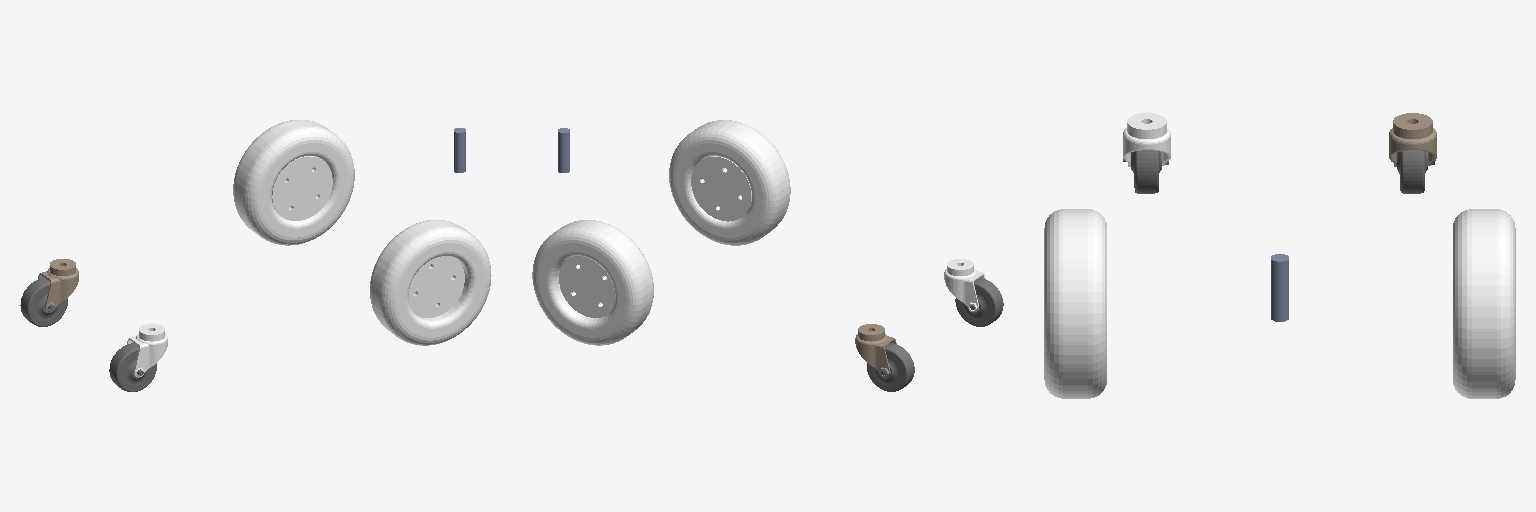
robot.urdf — myslam21:
<?xml version="1.0" encoding="utf-8"?>
<!-- This URDF was automatically created by SolidWorks to URDF Exporter! Originally created by Stephen Brawner (brawner@gmail.com)
     Commit Version: 1.6.0-4-g7f85cfe  Build Version: 1.6.7995.38578
     For more information, please see http://wiki.ros.org/sw_urdf_exporter -->
<robot
  name="myslam21">
  <link
    name="base_footprint">
  </link>
  <link
    name="base_link">
    <inertial>
      <origin
        xyz="-0.074105 -4.3631E-08 0.0097349"
        rpy="0 0 0" />
      <mass
        value="1.4621" />
    <inertia
        ixx="0.0049825"
        ixy="2.9389E-17"
        ixz="-1.1192E-17"
        iyy="0.0089868"
        iyz="4.4695E-17"
        izz="0.0049825" />
    </inertial>

    <visual>
      <origin
        xyz="0 0 0"
        rpy="0 0 0" />
      <geometry>
        <mesh
          filename="package://myslam21/meshes/base_link.STL" />
      </geometry>
      <material
        name="">
        <color
          rgba="0.98824 0.73725 0.51765 1" />
      </material>
    </visual>
    <collision>
      <origin
        xyz="0 0 0"
        rpy="0 0 0" />
      <geometry>
        <mesh
          filename="package://myslam21/meshes/base_link.STL" />
      </geometry>
    </collision>
  </link>
  <joint
    name="base_joint"
    type="fixed">
    <origin
      xyz="0 0 0.1"
      rpy="0 0 0" />
    <parent
      link="base_footprint" />
    <child
      link="base_link" />
    <axis
      xyz="0 0 0" />
  </joint>
  <link
    name="left_wheel">
    <inertial>
      <origin
        xyz="-2.9346E-10 -0.0015289 7.2164E-16"
        rpy="0 0 0" />
      <mass
        value="1.6988" />
      <inertia
        ixx="0.0049825"
        ixy="2.9389E-17"
        ixz="-1.1192E-17"
        iyy="0.0089868"
        iyz="4.4695E-17"
        izz="0.0049825" />
    </inertial>
    <visual>
      <origin
        xyz="0 0 0"
        rpy="0 0 0" />
      <geometry>
        <mesh
          filename="package://myslam21/meshes/left_wheel.STL" />
      </geometry>
      <material
        name="">
        <color
          rgba="1 1 1 1" />
      </material>
    </visual>
    <collision>
      <origin
        xyz="0 0 0"
        rpy="0 0 0" />
      <geometry>
        <mesh
          filename="package://myslam21/meshes/left_wheel.STL" />
      </geometry>
    </collision>
  </link>
  <joint
    name="left_joint"
    type="continuous">
    <origin
      xyz="8.7574E-05 0.215 0"
      rpy="0 0 0" />
    <parent
      link="base_link" />
    <child
      link="left_wheel" />
    <axis
      xyz="0 1 0" />
  </joint>
  <link
    name="right_wheel">
    <inertial>
      <origin
        xyz="2.9346E-10 0.001529 1.0547E-15"
        rpy="0 0 0" />
      <mass
        value="1.6988" />
      <inertia
        ixx="0.0049825"
        ixy="4.1381E-17"
        ixz="-2.1476E-18"
        iyy="0.0089868"
        iyz="-2.0305E-17"
        izz="0.0049825" />
    </inertial>
    <visual>
      <origin
        xyz="0 0 0"
        rpy="0 0 0" />
      <geometry>
        <mesh
          filename="package://myslam21/meshes/right_wheel.STL" />
      </geometry>
      <material
        name="">
        <color
          rgba="1 1 1 1" />
      </material>
    </visual>
    <collision>
      <origin
        xyz="0 0 0"
        rpy="0 0 0" />
      <geometry>
        <mesh
          filename="package://myslam21/meshes/right_wheel.STL" />
      </geometry>
    </collision>
  </link>
  <joint
    name="right_joint"
    type="continuous">
    <origin
      xyz="-8.7574E-05 -0.215 0"
      rpy="0 0 0" />
    <parent
      link="base_link" />
    <child
      link="right_wheel" />
    <axis
      xyz="0 1 0" />
  </joint>
  <link
    name="caster_right_sup_link">
    <inertial>
      <origin
        xyz="-0.0057083 0.00018449 -0.017621"
        rpy="0 0 0" />
      <mass
        value="0.030986" />
      <inertia
        ixx="1.4804E-05"
        ixy="2.2843E-07"
        ixz="-4.3412E-06"
        iyy="1.5651E-05"
        iyz="2.7586E-07"
        izz="1.4627E-05" />
    </inertial>
    <visual>
      <origin
        xyz="0 0 0"
        rpy="0 0 0" />
      <geometry>
        <mesh
          filename="package://myslam21/meshes/caster_right_sup_link.STL" />
      </geometry>
      <material
        name="">
        <color
          rgba="1 1 1 1" />
      </material>
    </visual>
    <collision>
      <origin
        xyz="0 0 0"
        rpy="0 0 0" />
      <geometry>
        <mesh
          filename="package://myslam21/meshes/caster_right_sup_link.STL" />
      </geometry>
    </collision>
  </link>
  <joint
    name="caster_right_sup_joint"
    type="continuous">
    <origin
      xyz="-0.46269 -0.14 -0.0036566"
      rpy="0 0 0" />
    <parent
      link="base_link" />
    <child
      link="caster_right_sup_link" />
    <axis
      xyz="0 0 1" />
  </joint>
  <link
    name="caster_right_wheel_link">
    <inertial>
      <origin
        xyz="3.7102E-07 -2.382E-05 -5.5511E-17"
        rpy="0 0 0" />
      <mass
        value="0.11899" />
      <inertia
        ixx="4.7812E-05"
        ixy="-5.1783E-07"
        ixz="1.1714E-20"
        iyy="8.1049E-05"
        iyz="-3.9851E-19"
        izz="4.7803E-05" />
    </inertial>
    <visual>
      <origin
        xyz="0 0 0"
        rpy="0 0 0" />
      <geometry>
        <mesh
          filename="package://myslam21/meshes/caster_right_wheel_link.STL" />
      </geometry>
      <material
        name="">
        <color
          rgba="0.50196 0.50196 0.50196 1" />
      </material>
    </visual>
    <collision>
      <origin
        xyz="0 0 0"
        rpy="0 0 0" />
      <geometry>
        <mesh
          filename="package://myslam21/meshes/caster_right_wheel_link.STL" />
      </geometry>
    </collision>
  </link>
  <joint
    name="caster_right_wheel_joint"
    type="continuous">
    <origin
      xyz="-0.034264 -0.00053995 -0.058235"
      rpy="0 0 0" />
    <parent
      link="caster_right_sup_link" />
    <child
      link="caster_right_wheel_link" />
    <axis
      xyz="-0.015574 0.99988 0" />
  </joint>
  <link
    name="caster_left_sup_link">
    <inertial>
      <origin
        xyz="-0.0057095 0.0001554 -0.017621"
        rpy="0 0 0" />
      <mass
        value="0.030984" />
      <inertia
        ixx="1.4801E-05"
        ixy="2.2409E-07"
        ixz="-4.3424E-06"
        iyy="1.5653E-05"
        iyz="2.5372E-07"
        izz="1.4626E-05" />
    </inertial>
    <visual>
      <origin
        xyz="0 0 0"
        rpy="0 0 0" />
      <geometry>
        <mesh
          filename="package://myslam21/meshes/caster_left_sup_link.STL" />
      </geometry>
      <material
        name="">
        <color
          rgba="0.68627 0.62353 0.56078 1" />
      </material>
    </visual>
    <collision>
      <origin
        xyz="0 0 0"
        rpy="0 0 0" />
      <geometry>
        <mesh
          filename="package://myslam21/meshes/caster_left_sup_link.STL" />
      </geometry>
    </collision>
  </link>
  <joint
    name="caster_left_sup_joint"
    type="continuous">
    <origin
      xyz="-0.46269 0.14 -0.0036566"
      rpy="0 0 0" />
    <parent
      link="base_link" />
    <child
      link="caster_left_sup_link" />
    <axis
      xyz="0 0 1" />
  </joint>
  <link
    name="caster_left_wheel_link">
    <inertial>
      <origin
        xyz="-4.9244E-07 2.3818E-05 6.6613E-16"
        rpy="0 0 0" />
      <mass
        value="0.11899" />
      <inertia
        ixx="4.7818E-05"
        ixy="-6.8723E-07"
        ixz="6.1491E-21"
        iyy="8.1042E-05"
        iyz="2.3118E-19"
        izz="4.7803E-05" />
    </inertial>
    <visual>
      <origin
        xyz="0 0 0"
        rpy="0 0 0" />
      <geometry>
        <mesh
          filename="package://myslam21/meshes/caster_left_wheel_link.STL" />
      </geometry>
      <material
        name="">
        <color
          rgba="0.50196 0.50196 0.50196 1" />
      </material>
    </visual>
    <collision>
      <origin
        xyz="0 0 0"
        rpy="0 0 0" />
      <geometry>
        <mesh
          filename="package://myslam21/meshes/caster_left_wheel_link.STL" />
      </geometry>
    </collision>
  </link>
  <joint
    name="caster_left_wheel_joint"
    type="continuous">
    <origin
      xyz="-0.034261 -0.00070211 -0.058233"
      rpy="0 0 0" />
    <parent
      link="caster_left_sup_link" />
    <child
      link="caster_left_wheel_link" />
    <axis
      xyz="0.020671 -0.99979 0" />
  </joint>
  <link
    name="hokuyo_link">
    <inertial>
      <origin
        xyz="-2.2204E-16 5.5511E-17 -0.035"
        rpy="0 0 0" />
      <mass
        value="0.021991" />
      <inertia
        ixx="9.5295E-06"
        ixy="6.0993E-25"
        ixz="-4.1792E-21"
        iyy="9.5295E-06"
        iyz="4.6903E-21"
        izz="1.0996E-06" />
    </inertial>
    <visual>
      <origin
        xyz="0 0 0"
        rpy="0 0 0" />
      <geometry>
        <mesh
          filename="package://myslam21/meshes/hokuyo_link.STL" />
      </geometry>
      <material
        name="">
        <color
          rgba="0.56078 0.58431 0.68627 1" />
      </material>
    </visual>
    <collision>
      <origin
        xyz="0 0 0"
        rpy="0 0 0" />
      <geometry>
        <mesh
          filename="package://myslam21/meshes/hokuyo_link.STL" />
      </geometry>
    </collision>
  </link>
  <joint
    name="hokuyo_joint"
    type="fixed">
    <origin
      xyz="0.17731 0 0.13634"
      rpy="0 0 0" />
    <parent
      link="base_link" />
    <child
      link="hokuyo_link" />
    <axis
      xyz="0 0 0" />
  </joint>









  <!-- <transmission name="left_wheel_transmission">
  <type>transmission_interface/SimpleTransmission</type>
  <joint name="left_joint">
    <hardwareInterface>hardware_interface/VelocityJointInterface</hardwareInterface>
  </joint>
  <actuator name="left_wheel_actuator">
     <mechanicalReduction>1</mechanicalReduction>
    <hardwareInterface>VelocityJointInterface</hardwareInterface>
  </actuator>
</transmission>

<transmission name="right_wheel_transmission">
  <type>transmission_interface/SimpleTransmission</type>
  <joint name="right_joint">
    <hardwareInterface>hardware_interface/VelocityJointInterface</hardwareInterface>
  </joint>
  <actuator name="right_wheel_actuator">
     <mechanicalReduction>1</mechanicalReduction>
    <hardwareInterface>VelocityJointInterface</hardwareInterface>
  </actuator>
</transmission>


   <gazebo>

     <plugin name="SARA_controller manager" filename="libgazebo_ros_control.so">
     <commandTopic>/cmd_vel</commandTopic>
      <odometryTopic>/odom</odometryTopic>
      <odometryFrame>/odom</odometryFrame>
      <publishWheelTF>true</publishWheelTF>
      <wheelTorque>10</wheelTorque>
      <robotBaseFrame>base_footprint</robotBaseFrame>

     </plugin>

    </gazebo>   -->




 <gazebo>
    <plugin name="turtlebot3_waffle_controller" filename="libgazebo_ros_diff_drive.so">
      <alwaysOn>true</alwaysOn>
      <commandTopic>cmd_vel</commandTopic>
      <odometryTopic>odom</odometryTopic>
      <odometryFrame>odom</odometryFrame>
      <odometrySource>world</odometrySource>
      <publishOdomTF>true</publishOdomTF>
      <robotBaseFrame>base_footprint</robotBaseFrame>
      <publishWheelTF>false</publishWheelTF>
      <publishTf>true</publishTf>
      <publishWheelJointState>false</publishWheelJointState>
      <legacyMode>false</legacyMode>
      <updateRate>30</updateRate>
      <leftJoint>left_joint</leftJoint>
      <rightJoint>right_joint</rightJoint>
      <wheelSeparation>0.43</wheelSeparation>
      <wheelDiameter>0.21</wheelDiameter>
      <wheelAcceleration>1</wheelAcceleration>
      <wheelTorque>200</wheelTorque>
      <rosDebugLevel>na</rosDebugLevel>
    </plugin>
  </gazebo>

<!--


  <gazebo reference="base_link">
    <material>Gazebo/DarkGrey</material>
  </gazebo>

  <gazebo reference="left_wheel">
    <mu1>200</mu1>
    <mu2>100</mu2>
    <kp>10000000.0</kp>
    <kd>10.0</kd>
    <minDepth>0.001</minDepth>
    <maxVel>3</maxVel>
    <fdir1>1 0 0</fdir1>
    <material>Gazebo/FlatBlack</material>
  </gazebo>



  <gazebo reference="right_wheel">
    <mu1>200</mu1>
    <mu2>100</mu2>
    <kp>10000000.0</kp>
    <kd>10.0</kd>
    <minDepth>0.001</minDepth>
    <maxVel>3</maxVel>
    <fdir1>1 0 0</fdir1>
    <material>Gazebo/FlatBlack</material>
  </gazebo>



  <gazebo reference="caster_left_sup_link">
    <mu1>0.00</mu1>
    <mu2>0.00</mu2>
    <kp>1000000.0</kp>
    <kd>100.0</kd>
    <minDepth>0.001</minDepth>
    <material>Gazebo/FlatBlack</material>
  </gazebo>

  <gazebo reference="caster_right_sup_link">
    <mu1>0.00</mu1>
    <mu2>0.00</mu2>
    <kp>1000000.0</kp>
    <kd>100.0</kd>
    <minDepth>0.001</minDepth>
    <material>Gazebo/FlatBlack</material>
  </gazebo>


  <gazebo reference="caster_left_wheel_link">
    <mu1>200</mu1>
    <mu2>100</mu2>
    <kp>1000000.0</kp>
    <kd>100.0</kd>
    <minDepth>0.4</minDepth>
    <maxVel>1.0</maxVel>
    <material>Gazebo/FlatBlack</material>
  </gazebo>


  <gazebo reference="caster_right_wheel_link">
    <mu1>200</mu1>
    <mu2>100</mu2>
    <kp>1000000.0</kp>
    <kd>100.0</kd>
    <minDepth>0.001</minDepth>
    <maxVel>1.0</maxVel>
    <material>Gazebo/FlatBlack</material>
  </gazebo>

-->




 <gazebo reference="hokuyo_link">
    <material>Gazebo/FlatBlack</material>
    <sensor type="ray" name="lds_lfcd_sensor">
      <pose>0 0 0 0 0 0</pose>
      <visualize>false</visualize>
      <update_rate>5</update_rate>
      <ray>
        <scan>
          <horizontal>
            <samples>800</samples>
            <resolution>1</resolution>
            <min_angle>0</min_angle>
            <max_angle>6.28319</max_angle>
          </horizontal>
        </scan>
        <range>
          <min>0.150</min>
          <max>6</max>
          <resolution>0.015</resolution>
        </range>
        <noise>
          <type>gaussian</type>
          <mean>0.0</mean>
          <stddev>0.01</stddev>
        </noise>
      </ray>
      <plugin name="gazebo_ros_lds_lfcd_controller" filename="libgazebo_ros_laser.so">
        <topicName>scan</topicName>
        <frameName>hokuyo_link</frameName>
      </plugin>
    </sensor>
  </gazebo>





</robot>

--- Facts derived from the render (not from the file) ---
The picture shows the robot from 3 angles, left to right: view 1: azimuth 30°, elevation 25°; view 2: azimuth 150°, elevation 25°; view 3: azimuth 270°, elevation 25°; orthographic projection.
Model myslam21 with 9 links and 8 joints (6 continuous, 2 fixed), rooted at base_footprint, posed all joints at 0.
Visible links, largest first — view 1: left_wheel, right_wheel, caster_right_wheel_link, caster_left_wheel_link, caster_left_sup_link, caster_right_sup_link, hokuyo_link; view 2: left_wheel, right_wheel, caster_left_wheel_link, caster_right_wheel_link, caster_right_sup_link, caster_left_sup_link, hokuyo_link; view 3: left_wheel, right_wheel, caster_right_sup_link, caster_left_sup_link, hokuyo_link, caster_right_wheel_link, caster_left_wheel_link.
Link boxes in pixels (left/top/right/bottom): left_wheel: left=233, top=120, right=354, bottom=245; right_wheel: left=370, top=220, right=491, bottom=345; caster_right_wheel_link: left=109, top=343, right=156, bottom=391; caster_left_wheel_link: left=20, top=278, right=67, bottom=326; caster_left_sup_link: left=38, top=259, right=78, bottom=311; caster_right_sup_link: left=127, top=324, right=167, bottom=377; hokuyo_link: left=454, top=128, right=465, bottom=172; left_wheel: left=532, top=220, right=653, bottom=345; right_wheel: left=669, top=120, right=790, bottom=245; caster_left_wheel_link: left=867, top=343, right=914, bottom=391; caster_right_wheel_link: left=955, top=278, right=1003, bottom=326; caster_right_sup_link: left=944, top=259, right=985, bottom=312; caster_left_sup_link: left=855, top=324, right=896, bottom=377; hokuyo_link: left=558, top=128, right=569, bottom=172; left_wheel: left=1453, top=209, right=1515, bottom=398; right_wheel: left=1044, top=209, right=1106, bottom=398; caster_right_sup_link: left=1123, top=113, right=1170, bottom=166; caster_left_sup_link: left=1389, top=113, right=1436, bottom=166; hokuyo_link: left=1271, top=254, right=1288, bottom=321; caster_right_wheel_link: left=1123, top=150, right=1161, bottom=193; caster_left_wheel_link: left=1391, top=150, right=1435, bottom=193.
Bounding box of the posed robot: 0.7223 × 0.496 × 0.2363 m (x, y, z).
7 mesh visuals loaded from 8 distinct referenced files (7 binary STL); not drawn: 1 (reference not matched to a file when rendering).
